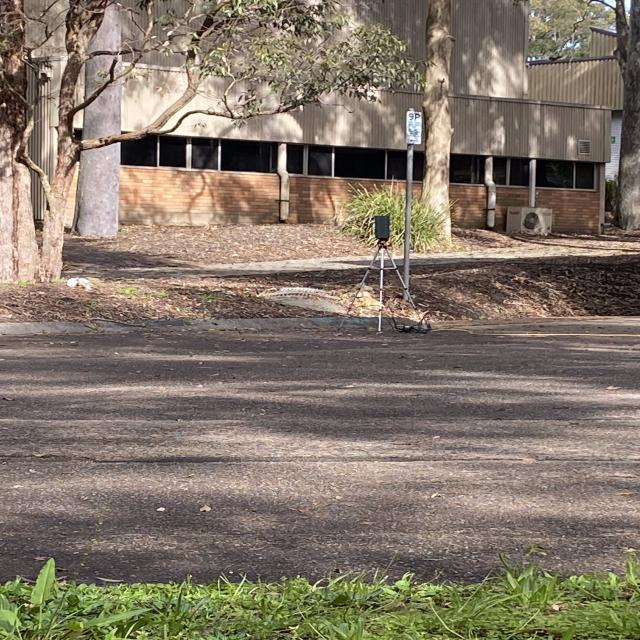matrix: (370, 214, 393, 239)
